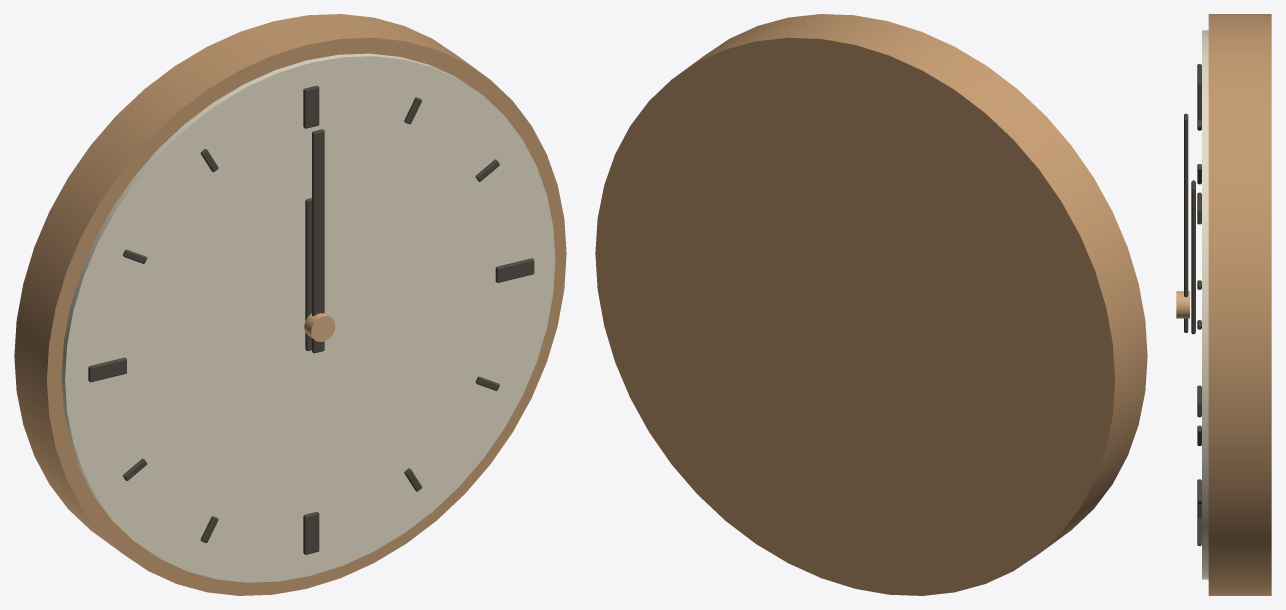
Rendered from family-beech-clock-v1.glb.
3 renders of one model, left to right at view 1: azimuth 30°, elevation 25°; view 2: azimuth 150°, elevation 25°; view 3: azimuth 270°, elevation 25°, orthographic. The views are drawn at different scales.
Visible parts, largest first — view 1: Ivory dial, Beech bentwood rim, Leaf hand (×2), Brass centre pin; view 2: Beech bentwood rim; view 3: Beech bentwood rim, Ivory dial, Leaf hand (×2), Inlaid hour index (×3), Brass centre pin.
Part boxes in pixels (bbox=[...]): Ivory dial: bbox=[61, 53, 555, 582]; Beech bentwood rim: bbox=[14, 14, 566, 595]; Leaf hand (×2): bbox=[305, 129, 324, 353]; Brass centre pin: bbox=[304, 313, 335, 341]; Beech bentwood rim: bbox=[595, 14, 1147, 595]; Beech bentwood rim: bbox=[1208, 14, 1271, 595]; Ivory dial: bbox=[1202, 30, 1208, 579]; Leaf hand (×2): bbox=[1184, 113, 1195, 334]; Inlaid hour index (×3): bbox=[1197, 76, 1201, 417]; Brass centre pin: bbox=[1176, 291, 1189, 318].
Size of the model in its own units: 0.388 by 0.388 by 0.0635.
